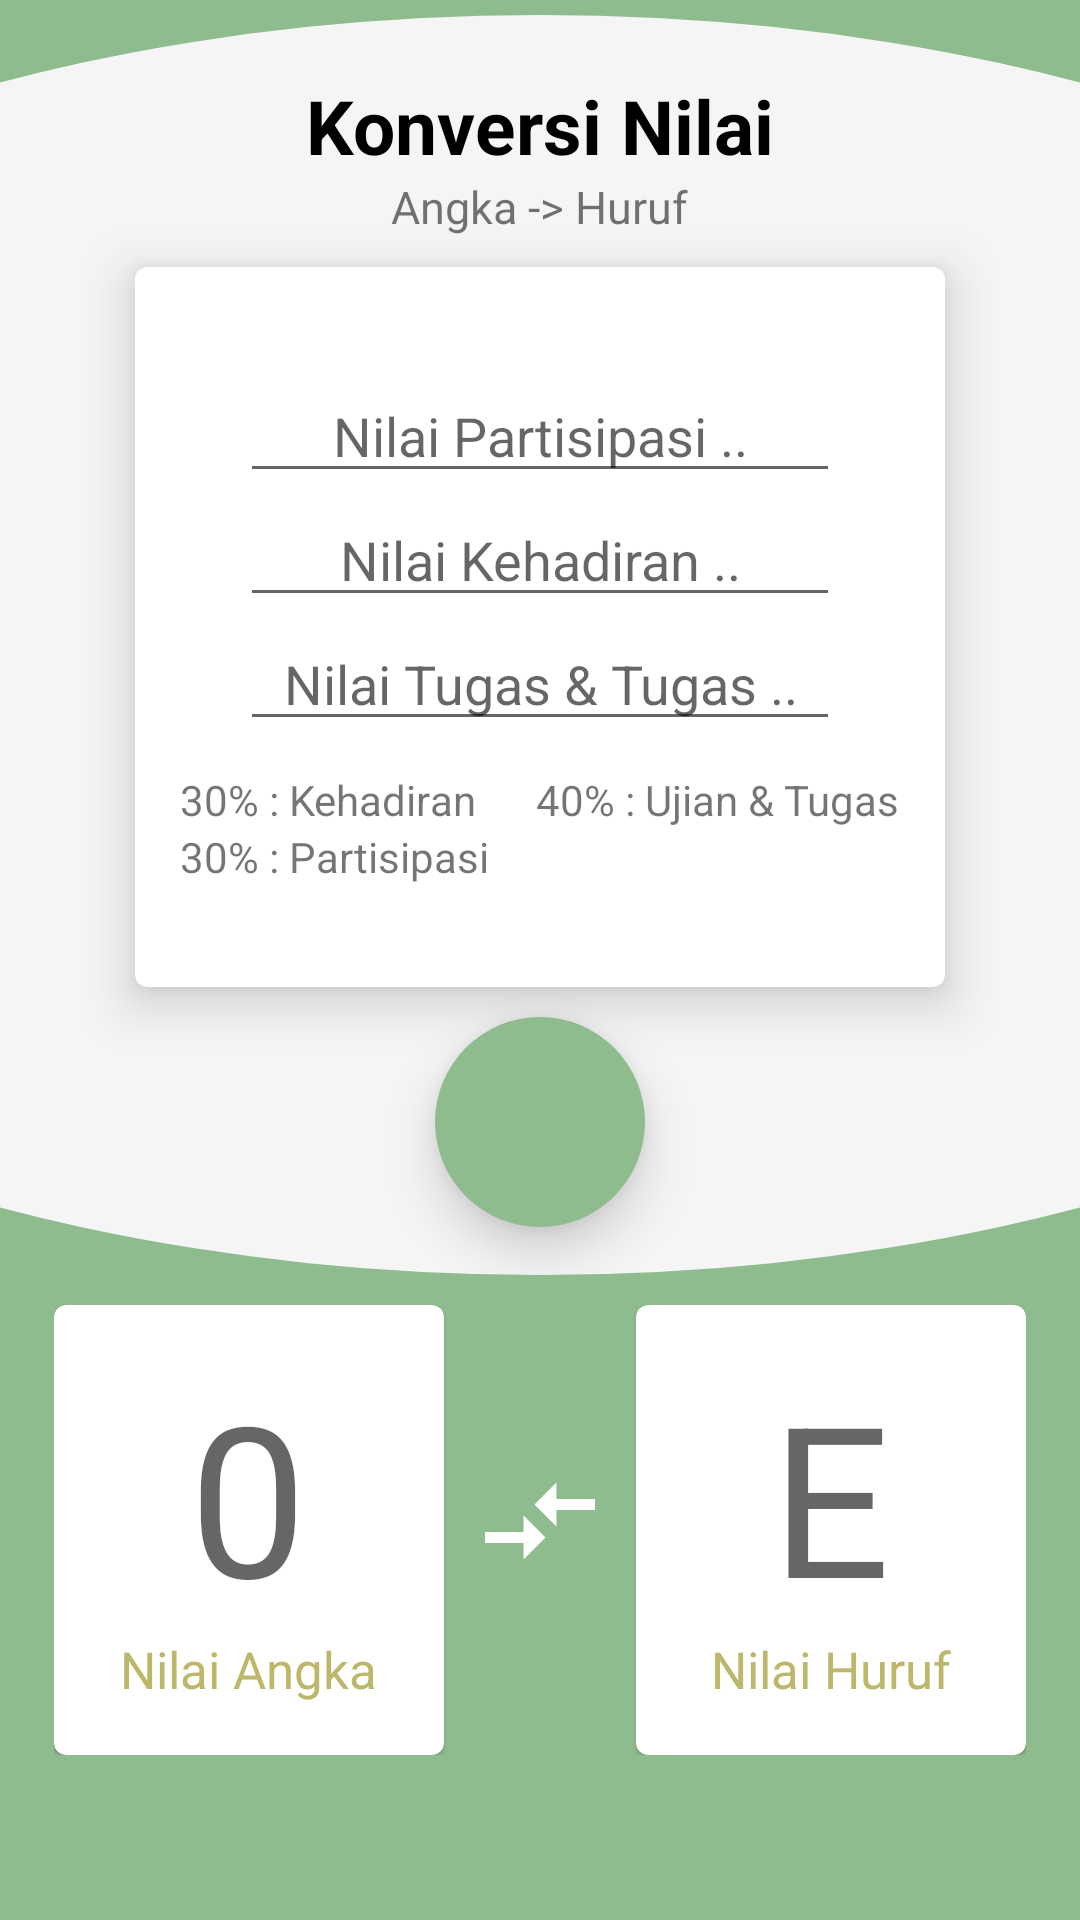

Named icons in this screenshot (1080 x 1920) and their bounding boxes, (x1, y1, x2, y2):
compare arrows: (485, 1483, 595, 1559)
